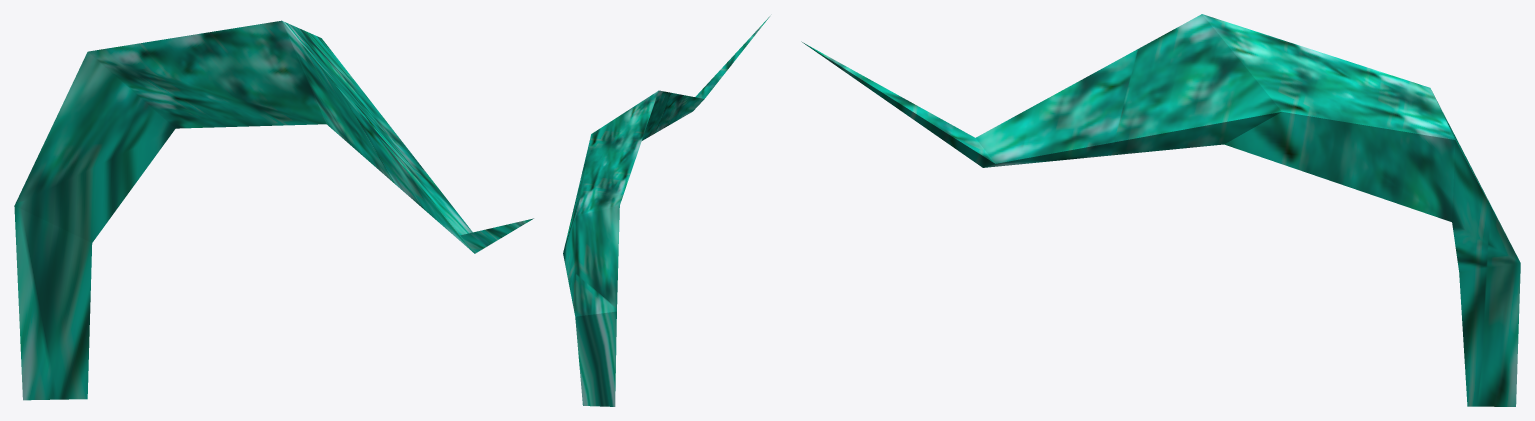
File: H1_BluePlant_Branch_8.gltf
3 views of the same model, side by side, from view 1: azimuth 30°, elevation 25°; view 2: azimuth 150°, elevation 25°; view 3: azimuth 270°, elevation 25° (orthographic). The views are drawn at different scales.
Visible parts, largest first — view 1: H1_BluePlant_Branch_8; view 2: H1_BluePlant_Branch_8; view 3: H1_BluePlant_Branch_8.
Part boxes in pixels (box(x1,y1,x2,y2)): H1_BluePlant_Branch_8: box(14, 20, 533, 400); H1_BluePlant_Branch_8: box(563, 16, 769, 406); H1_BluePlant_Branch_8: box(801, 14, 1520, 406).
Size of the model in its own units: 1.47 by 3.79 by 6.08.
1 material, 1 textured.
